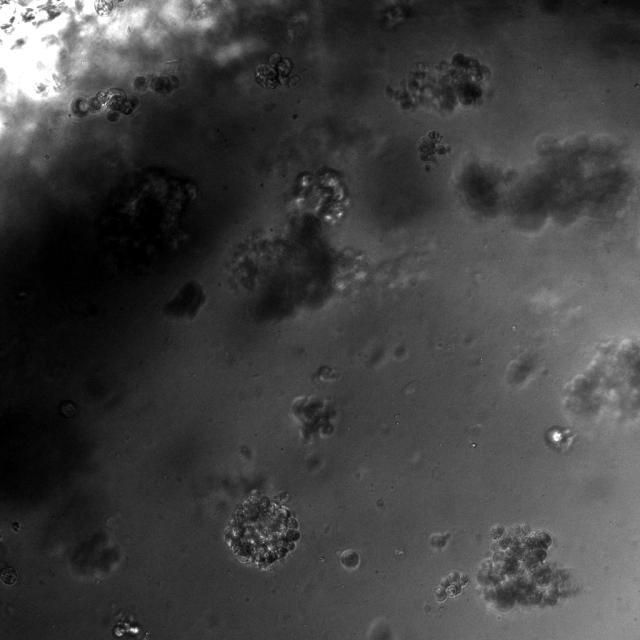organoid: (227, 167, 367, 321), (454, 134, 635, 230), (476, 524, 577, 609), (386, 53, 489, 116), (564, 338, 639, 420), (224, 490, 300, 569), (69, 530, 122, 579), (70, 87, 139, 121), (292, 396, 336, 438), (255, 53, 300, 90), (417, 130, 451, 172), (166, 281, 205, 317), (432, 571, 469, 602), (132, 73, 179, 94), (545, 425, 576, 452), (111, 615, 142, 639), (315, 365, 340, 383), (341, 549, 360, 571), (0, 567, 17, 586), (430, 532, 450, 548), (94, 0, 114, 16), (11, 520, 20, 533)
